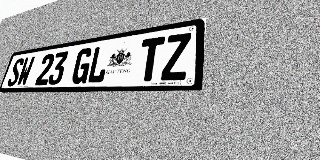2: (35, 53, 56, 85)
3: (47, 51, 69, 85)
G: (70, 47, 94, 84)
L: (86, 44, 111, 83)
S: (6, 58, 25, 86)
T: (136, 36, 165, 82)
W: (16, 56, 35, 86)
Z: (160, 32, 191, 81)
